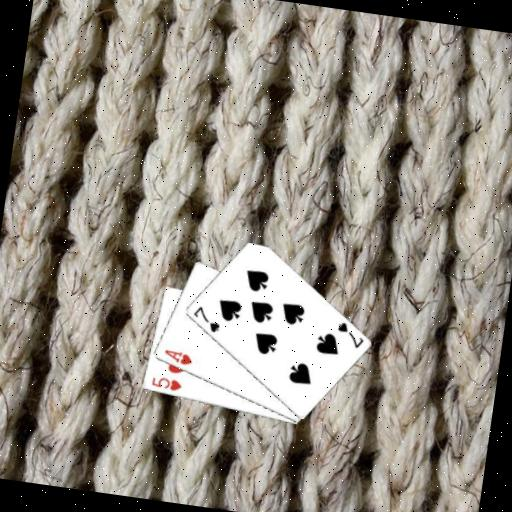5H: (148, 373, 184, 393)
7S: (188, 302, 224, 335), (332, 318, 368, 351)
AH: (160, 347, 195, 368)
